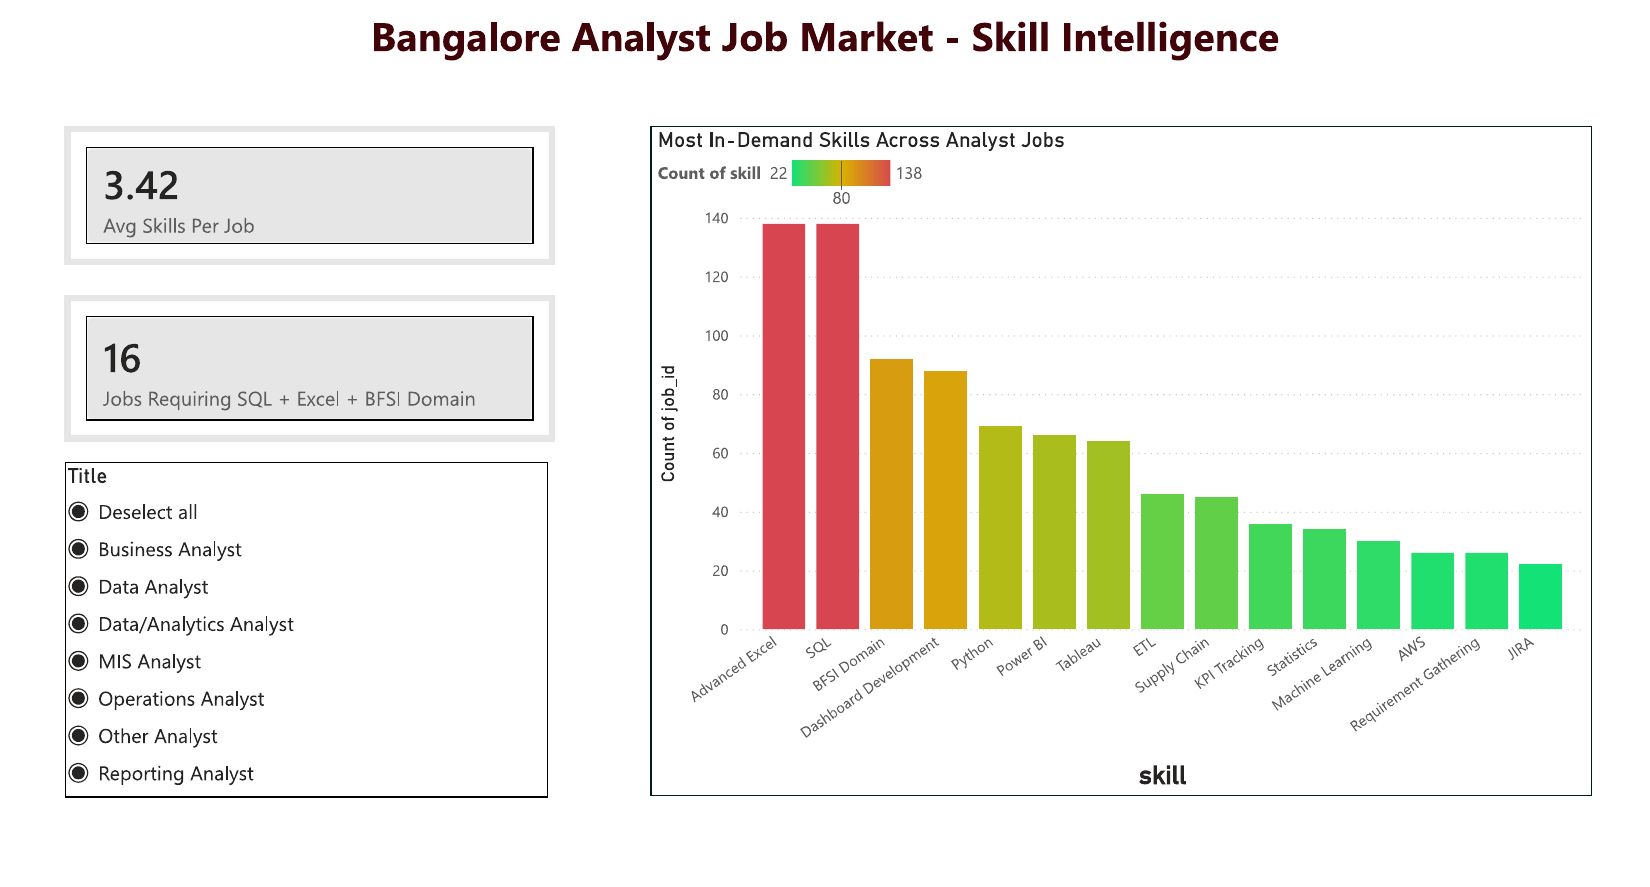

The dashboard page shown, as its layout file describes it:
{"tool":"powerbi","page":{"name":"Skill_Intelligence","canvas":[1280,720],"ordinal":1},"visuals":[{"type":"textbox","box":[23.2,36.7,1232.6,56.3],"z":0},{"type":"clusteredColumnChart","title":"Most In-Demand Skills Across Analyst Jobs","fields":{"Category":["job_skills.skill"],"Y":["Count(job_skills.job_id)"]},"box":[498.9,137,756.9,539.3],"z":1000},{"type":"cardVisual","fields":{"Data":["jobs.Postings with SQL+Excel+BFSI"]},"box":[28.1,272.7,393.8,118.6],"z":2000},{"type":"listSlicer","title":"Title","fields":{"Values":["jobs.title_normalized"]},"box":[28.1,407.2,388.9,270.2],"z":3000},{"type":"cardVisual","fields":{"Data":["job_skills.Avg Skills Per Job"]},"box":[28.1,137,393.8,112.5],"z":4000}]}

Visuals, with their boxes on the page's 1280x720 design canvas (x1, y1, x2, y2). These are canvas units, not pixel positions in the 1650x887 screenshot, which may show the page scaled, cropped or inside an application window:
textbox: pyautogui.locateOnScreen(23, 37, 1256, 93)
"Most In-Demand Skills Across Analyst Jobs" clusteredColumnChart: pyautogui.locateOnScreen(499, 137, 1256, 676)
cardVisual - jobs.Postings with SQL+Excel+BFSI: pyautogui.locateOnScreen(28, 273, 422, 391)
"Title" listSlicer: pyautogui.locateOnScreen(28, 407, 417, 677)
cardVisual - job_skills.Avg Skills Per Job: pyautogui.locateOnScreen(28, 137, 422, 250)
